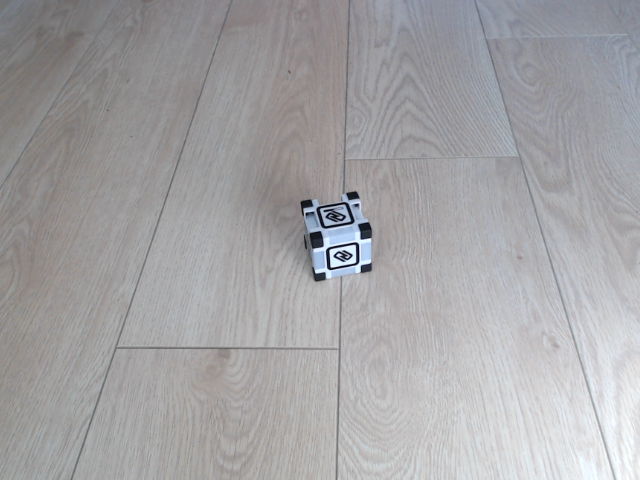block: (298, 190, 377, 284)
